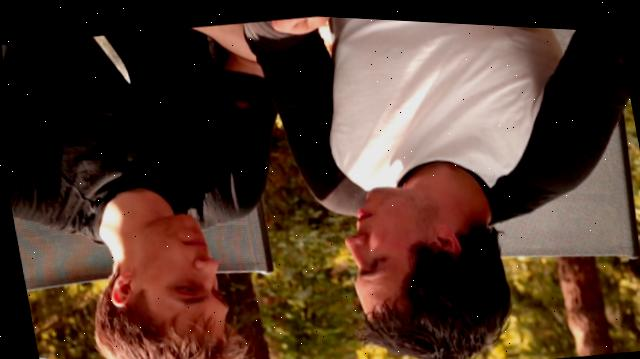pocket-knife: (54, 27, 141, 100)
